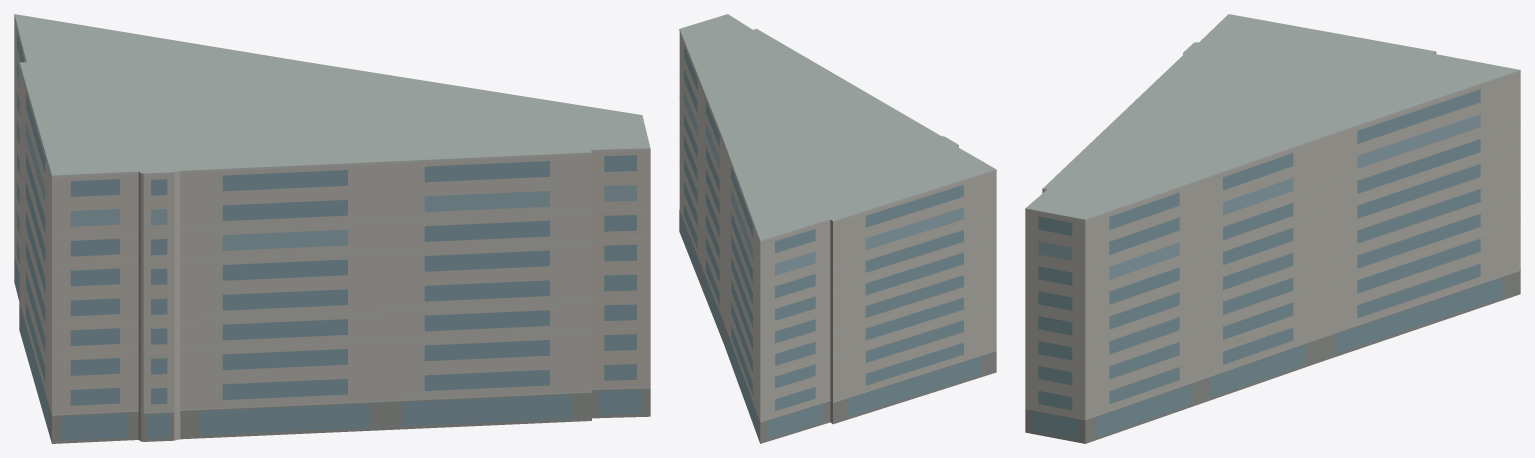
Rendered from survey-upis-32562901.glb.
3 renders of one model, left to right at view 1: azimuth 30°, elevation 25°; view 2: azimuth 150°, elevation 25°; view 3: azimuth 270°, elevation 25°, orthographic. The views are drawn at different scales.
Visible parts, largest first — view 1: survey-upis-32562901.tmp; view 2: survey-upis-32562901.tmp; view 3: survey-upis-32562901.tmp.
Boxes of the visible parts, left/top/right/bottom form: survey-upis-32562901.tmp: left=14, top=14, right=650, bottom=443; survey-upis-32562901.tmp: left=679, top=14, right=996, bottom=443; survey-upis-32562901.tmp: left=1025, top=14, right=1520, bottom=443.
Size of the model in its own units: 55.72 by 28.3 by 56.71.
